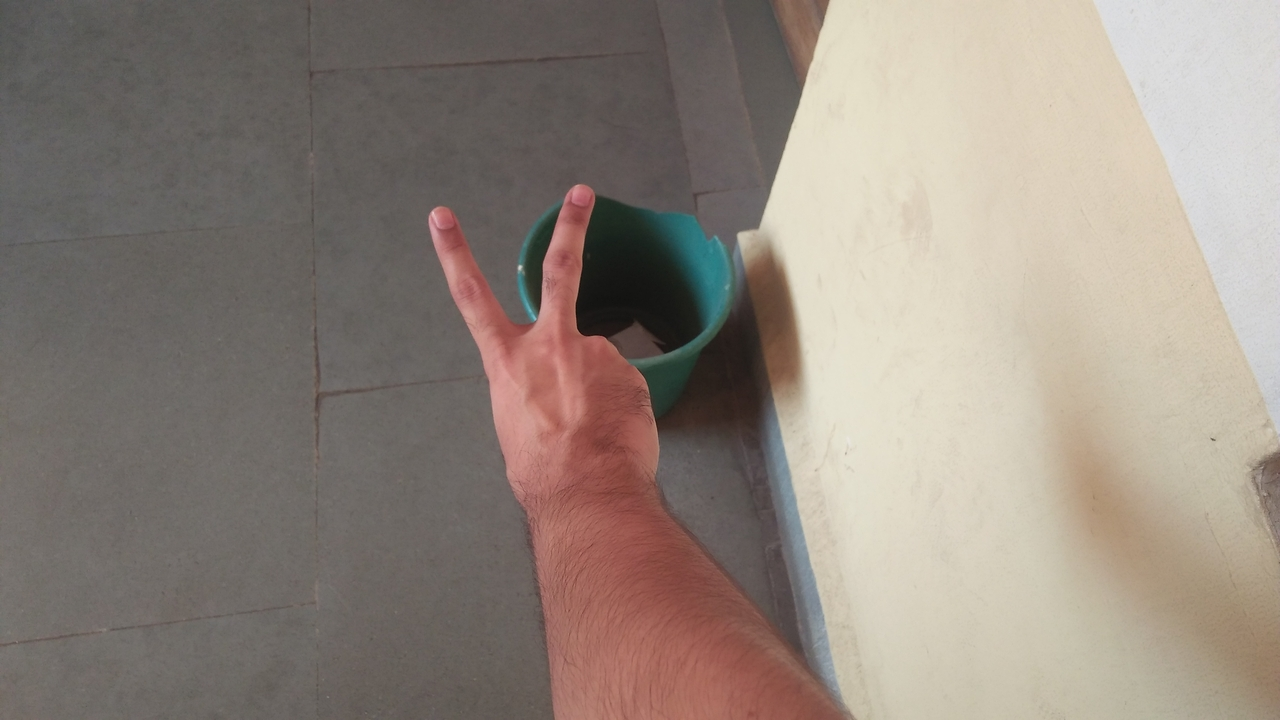fingertip: (412, 194, 470, 244), (548, 172, 602, 222)
